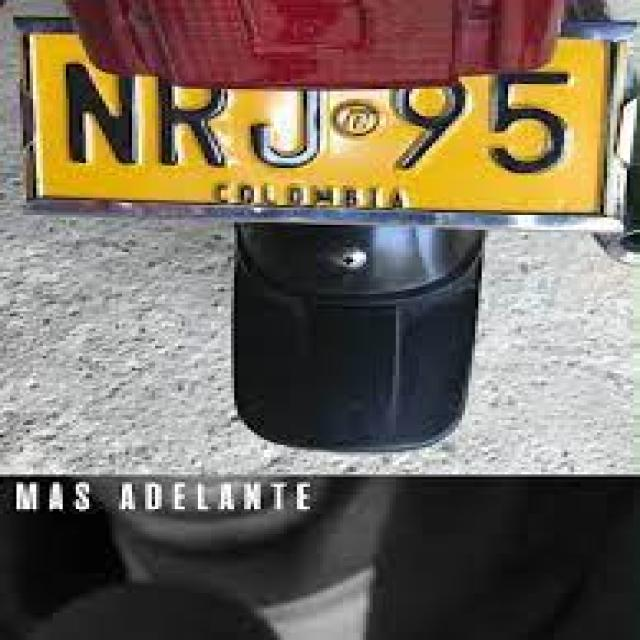placa_moto: (4, 17, 636, 232)
